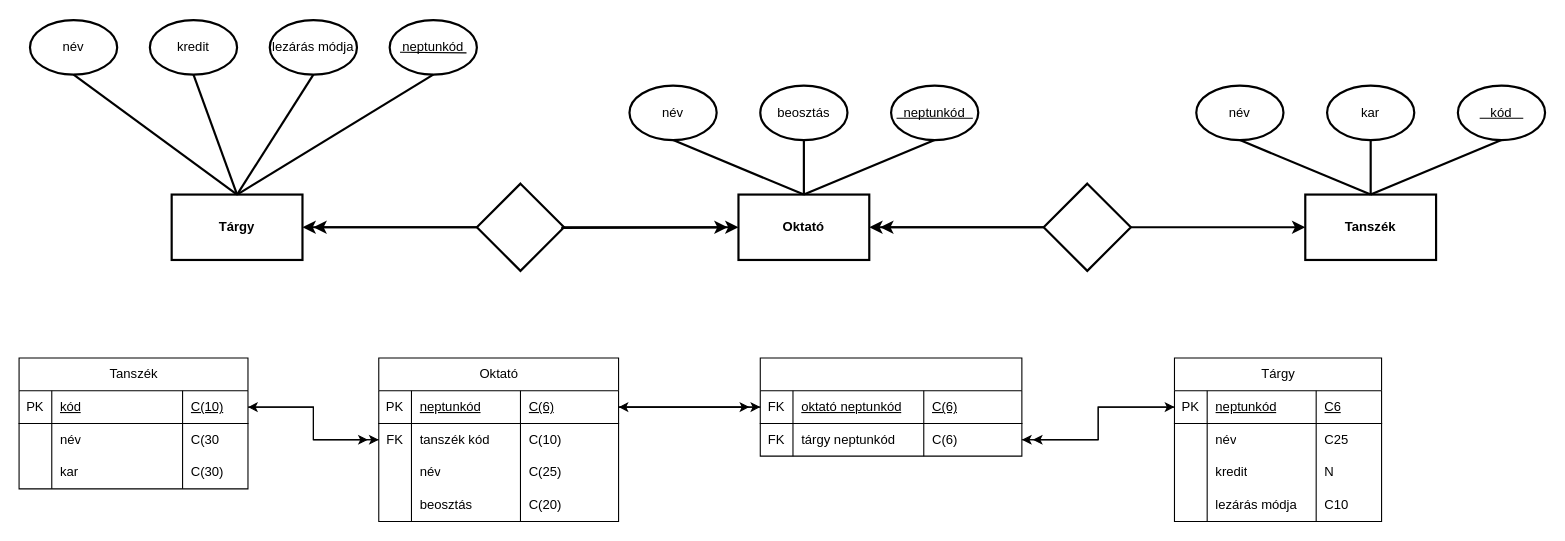
Image size: 1565x541. Some labels were removed from this diagram. The box of each missing label's shape, as (x1, y1, x2, y2) in pixels:
O-T: (475, 182, 565, 271)
Oktató-Tantárgy: (759, 357, 1022, 456)
T-O: (1042, 182, 1131, 271)
